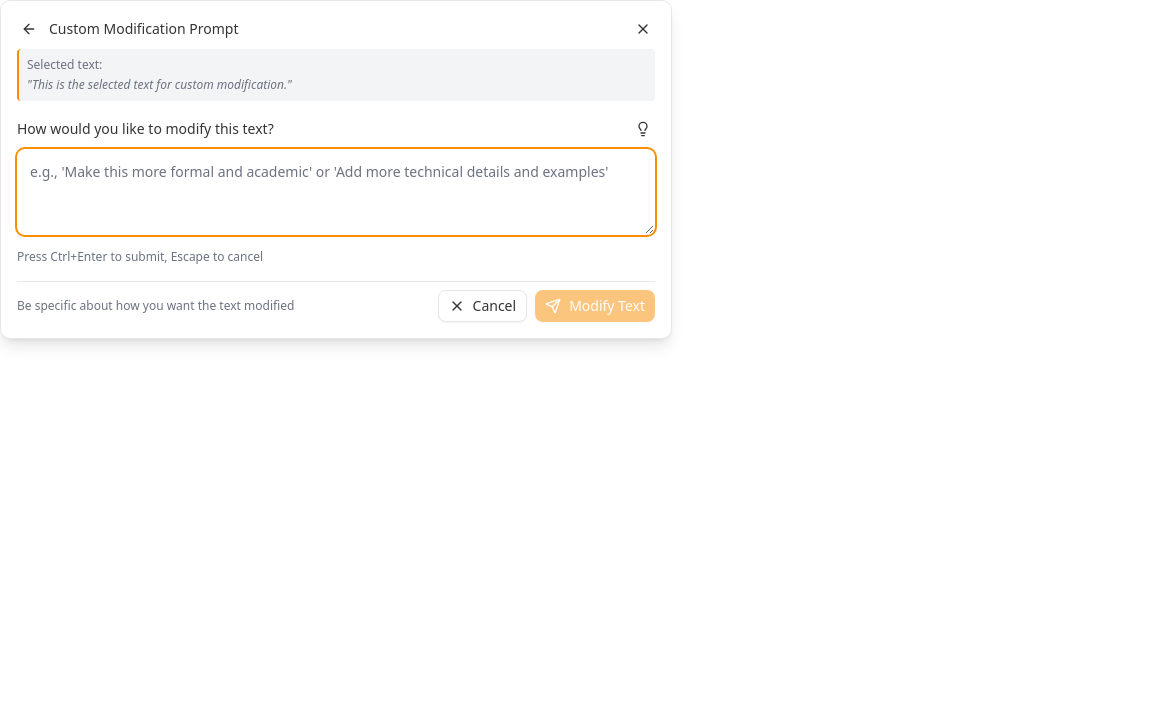
Test: Modify Mode Integration Tests › CustomPromptInput Component › should show prompt suggestions when lightbulb is clicked
Click the button named "Show prompt suggestions".
click(643, 129)  # box top-left (631, 117), bottom-right (655, 141)
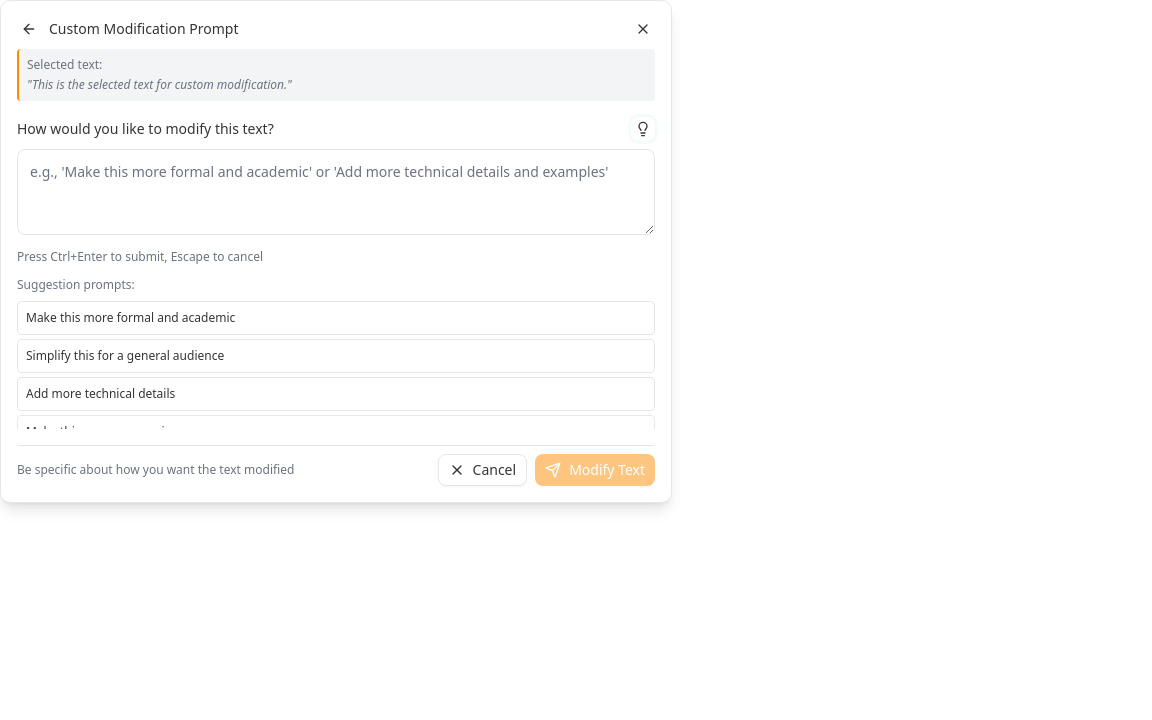
Check: the button "Make this more formal and academic" is shown, box top-left (17, 301), bottom-right (655, 335)
Check: the button "Simplify this for a general audience" is shown, box top-left (17, 339), bottom-right (655, 373)
Check: the button "Add more technical details" is shown, box top-left (17, 377), bottom-right (655, 411)
